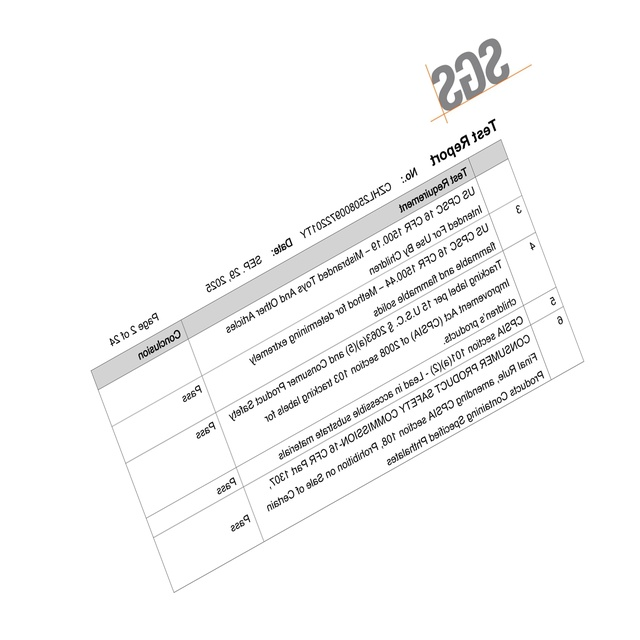sgs: (430, 38, 510, 109)
